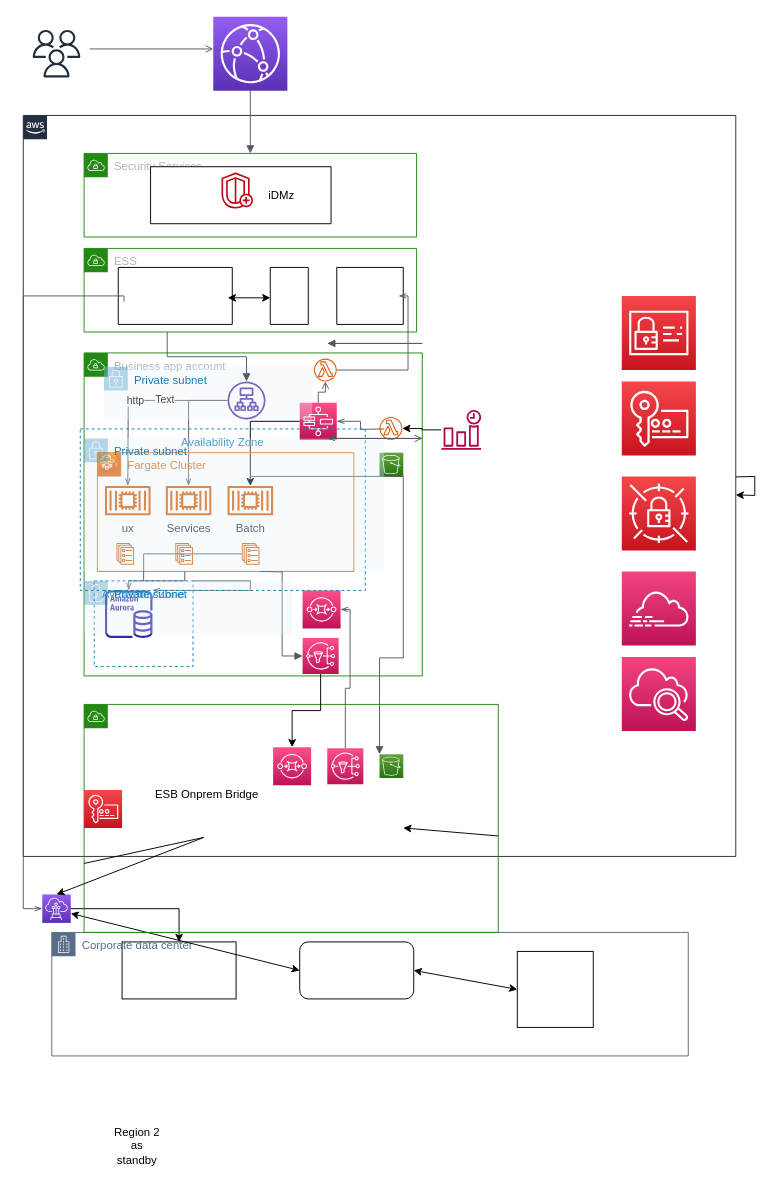
The diagram is 779 pixels wide and 1183 high, and some of its shapes have lost their labels. The centre of each missing label's shape, as x and y in pixels:
apigee: (x=174, y=295)
Calendar Service: (x=369, y=295)
ESB: (x=356, y=970)
On prem service: (x=554, y=988)
Ping: (x=288, y=295)
RAM (On Prem): (x=178, y=970)
